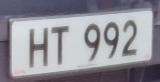2: (120, 16, 141, 62)
9: (101, 16, 123, 65), (81, 19, 103, 65)
H: (25, 24, 51, 74)
T: (48, 22, 75, 71)
